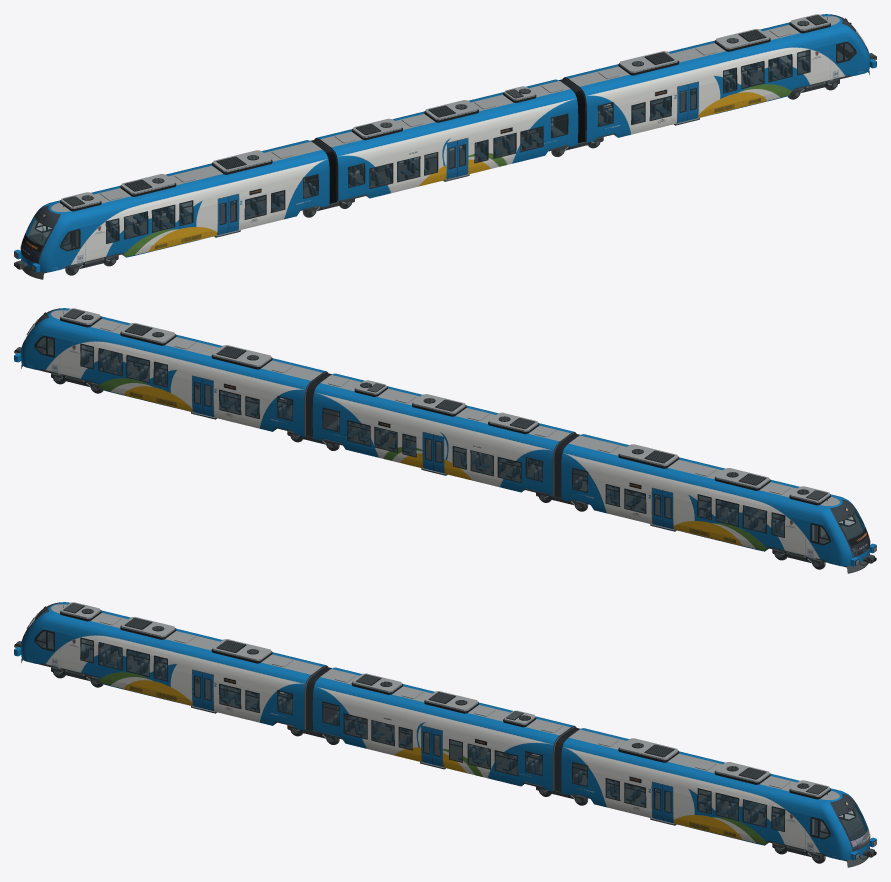
3 views of the same model, one above another, from view 1: azimuth 30°, elevation 25°; view 2: azimuth 150°, elevation 25°; view 3: azimuth 330°, elevation 25° (orthographic).
Parts seen in each view (by area): view 1: A | pudło i wyposażenie, B | pudło i wyposażenie, C | pudło i wyposażenie, Miech A-C, Miech C-B; view 2: A | pudło i wyposażenie, B | pudło i wyposażenie, C | pudło i wyposażenie, Miech A-C, Miech C-B; view 3: B | pudło i wyposażenie, A | pudło i wyposażenie, C | pudło i wyposażenie, Miech C-B, Miech A-C.
Part boxes in pixels (left/top/right/bottom): A | pudło i wyposażenie: left=14, top=140, right=329, bottom=279; B | pudło i wyposażenie: left=563, top=14, right=876, bottom=142; C | pudło i wyposażenie: left=314, top=79, right=578, bottom=202; Miech A-C: left=305, top=139, right=337, bottom=203; Miech C-B: left=554, top=78, right=585, bottom=142; A | pudło i wyposażenie: left=561, top=434, right=876, bottom=573; B | pudło i wyposażenie: left=14, top=308, right=327, bottom=436; C | pudło i wyposażenie: left=312, top=373, right=576, bottom=496; Miech A-C: left=553, top=433, right=585, bottom=497; Miech C-B: left=305, top=372, right=336, bottom=436; B | pudło i wyposażenie: left=561, top=728, right=876, bottom=867; A | pudło i wyposażenie: left=14, top=602, right=327, bottom=730; C | pudło i wyposażenie: left=312, top=667, right=576, bottom=791; Miech C-B: left=553, top=727, right=585, bottom=791; Miech A-C: left=305, top=666, right=337, bottom=731.
Size of the model in its own units: 55.57 by 4.2 by 2.88.
27 materials, 8 textured.
